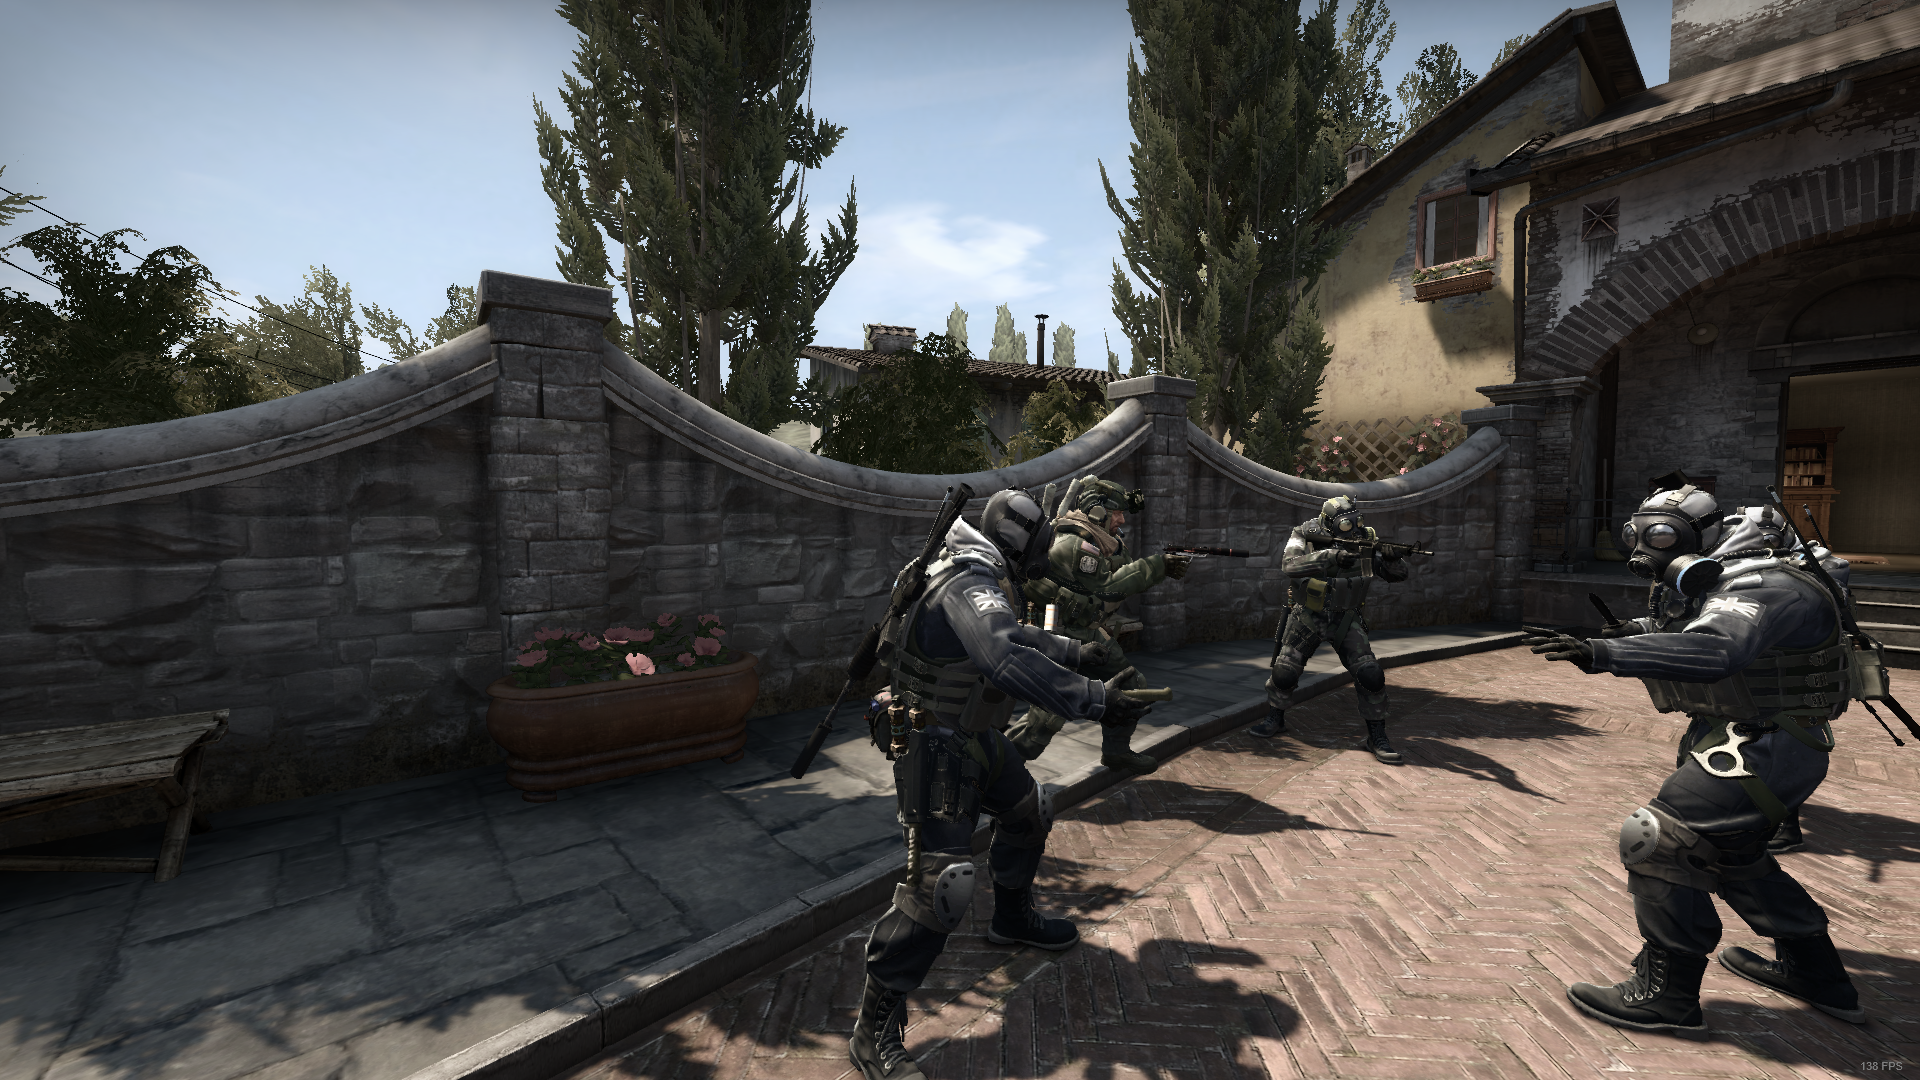ct: (1522, 476, 1894, 1058), (822, 469, 1175, 1080), (1246, 495, 1425, 761)
